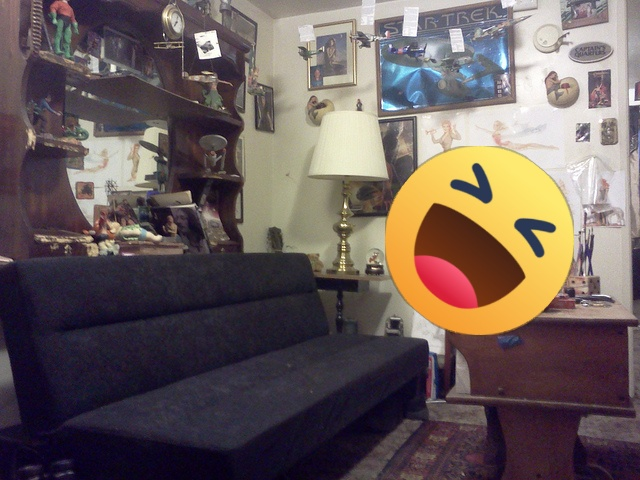haha: (385, 146, 574, 335)
